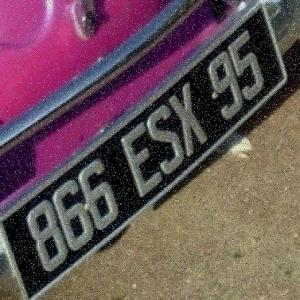Plate: (2, 0, 294, 300)
